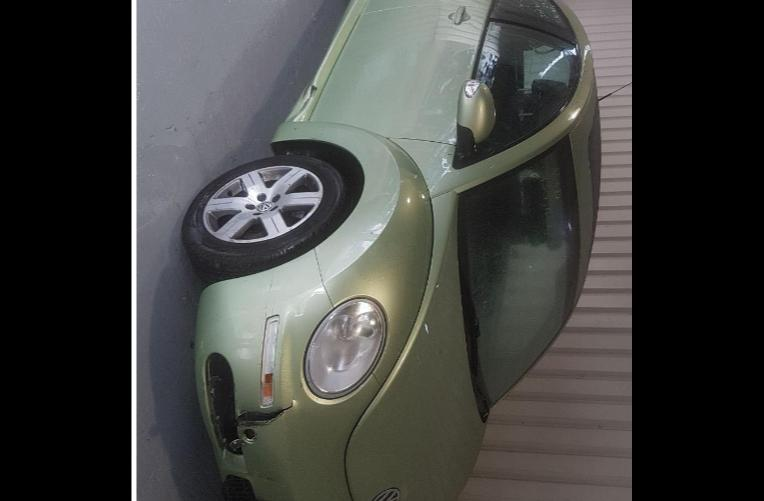Broken part: (194, 250, 380, 501), (284, 0, 368, 122)
Missing part: (205, 352, 236, 456), (242, 428, 256, 440)
Scratch: (266, 272, 276, 316), (234, 468, 272, 478)
